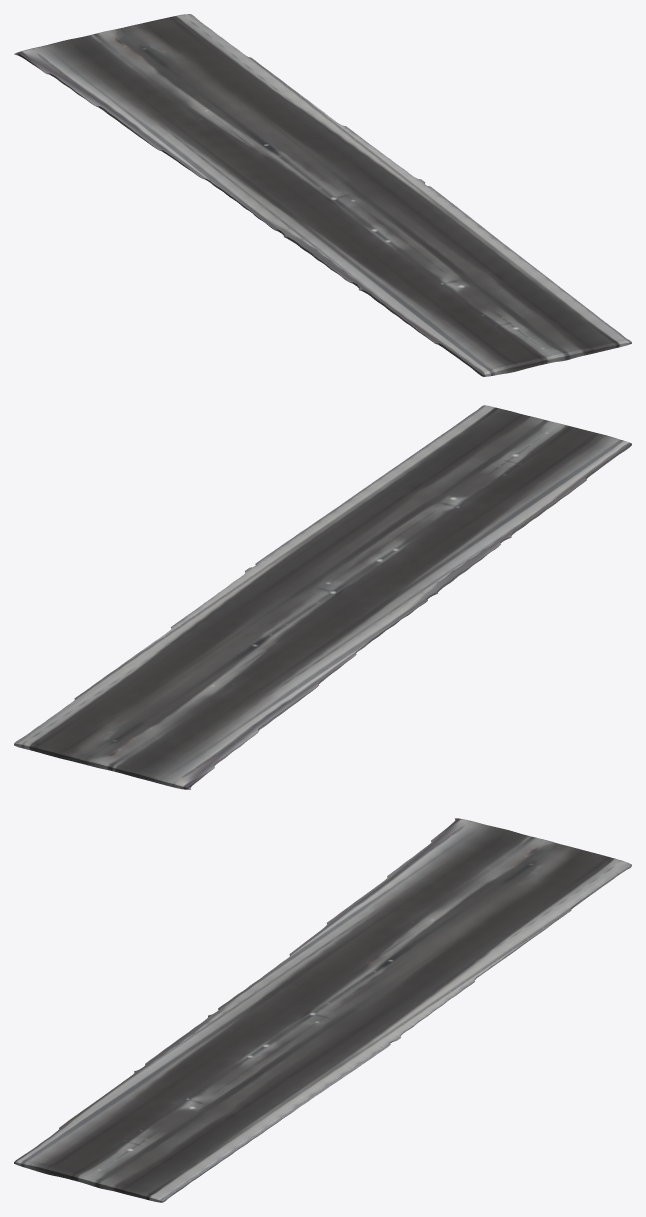
The model's file is road.obj.
3 views of the same model, one above another, from view 1: azimuth 30°, elevation 25°; view 2: azimuth 150°, elevation 25°; view 3: azimuth 330°, elevation 25° (orthographic). The views are drawn at different scales.
Visible parts, largest first — view 1: straight_road; view 2: straight_road; view 3: straight_road.
Part boxes in pixels (left/top/right/bottom): straight_road: left=14, top=14, right=631, bottom=376; straight_road: left=14, top=405, right=631, bottom=789; straight_road: left=14, top=818, right=631, bottom=1202.
Size of the model in its own units: 0.448 by 0.0247 by 1.97.
Materials: 1 (1 with a texture image).
